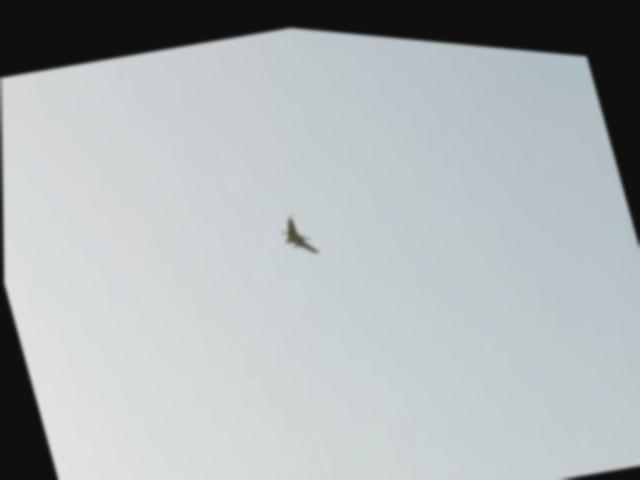plane: (277, 202, 322, 255)
